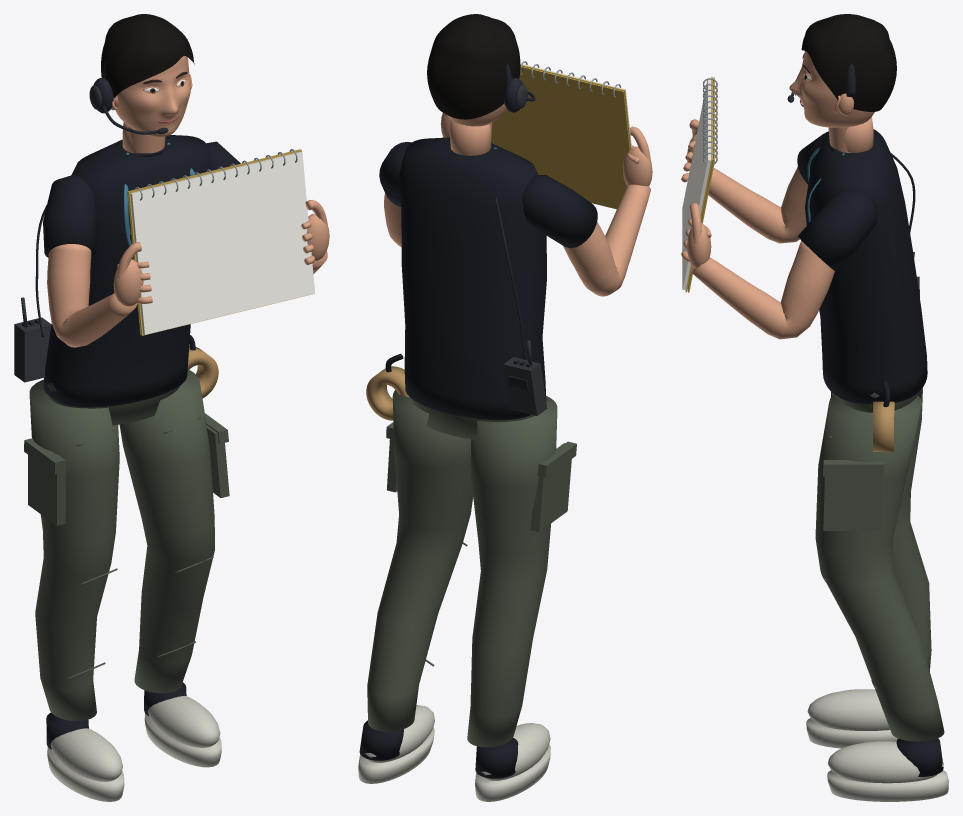
File: news-ad.glb
The picture shows the model from 3 angles, left to right: view 1: azimuth 30°, elevation 25°; view 2: azimuth 150°, elevation 25°; view 3: azimuth 270°, elevation 25°; orthographic projection.
Parts seen in each view (by area): view 1: AD_Body, AD_CardPage, AD_Head, AD_Card; view 2: AD_Body, AD_Card, AD_Head; view 3: AD_Body, AD_Head, AD_Card, AD_CardPage.
Boxes of the visible parts, bbox=[...] form: AD_Body: bbox=[14, 122, 329, 801]; AD_CardPage: bbox=[132, 152, 314, 334]; AD_Head: bbox=[89, 14, 194, 153]; AD_Card: bbox=[127, 149, 314, 335]; AD_Body: bbox=[358, 113, 652, 801]; AD_Card: bbox=[491, 61, 631, 209]; AD_Head: bbox=[427, 14, 535, 135]; AD_Body: bbox=[681, 117, 948, 801]; AD_Head: bbox=[787, 14, 896, 152]; AD_Card: bbox=[682, 77, 717, 292]; AD_CardPage: bbox=[682, 80, 707, 288].
Size of the model in its own units: 0.5405 by 1.7 by 0.5528.
